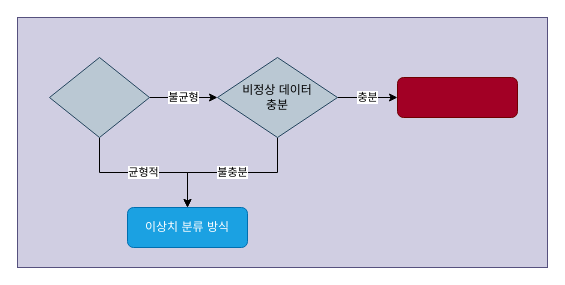
Some shapes in this 565 by 285 pixel diagram are drawn without their labels. Here are the shapes that lost their labels. From the top down, the box of each, then its label:
(48, 56, 150, 138): 타겟 클래스 불균형
(396, 76, 518, 118): 이상 탐지 방식
